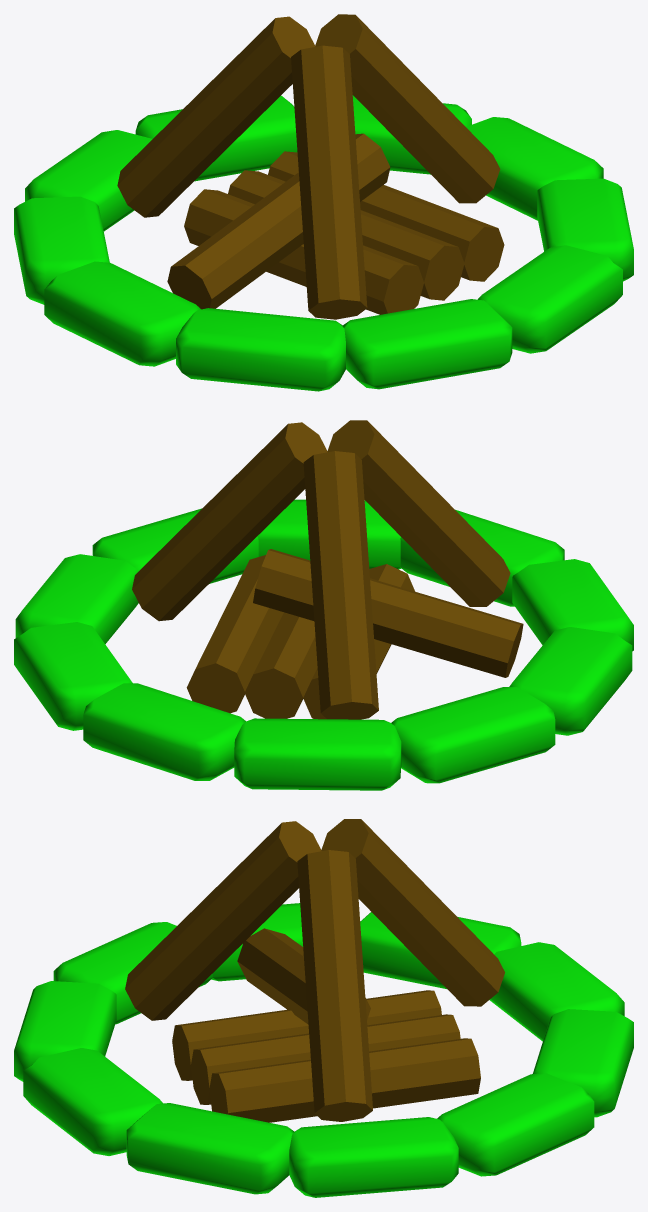
The model's file is campfire.fbx.
3 views of the same model, one above another, from view 1: azimuth 30°, elevation 25°; view 2: azimuth 150°, elevation 25°; view 3: azimuth 270°, elevation 25° (orthographic).
Parts seen in each view (by area): view 1: Rocks, Wood; view 2: Rocks, Wood; view 3: Rocks, Wood.
Boxes of the visible parts, bbox=[...] form: Rocks: bbox=[14, 95, 633, 391]; Wood: bbox=[117, 14, 504, 319]; Rocks: bbox=[14, 499, 633, 790]; Wood: bbox=[132, 420, 523, 719]; Rocks: bbox=[14, 903, 633, 1197]; Wood: bbox=[125, 819, 504, 1122].
Bounding box in the file's own units: 72.23 × 31.08 × 71.9.
